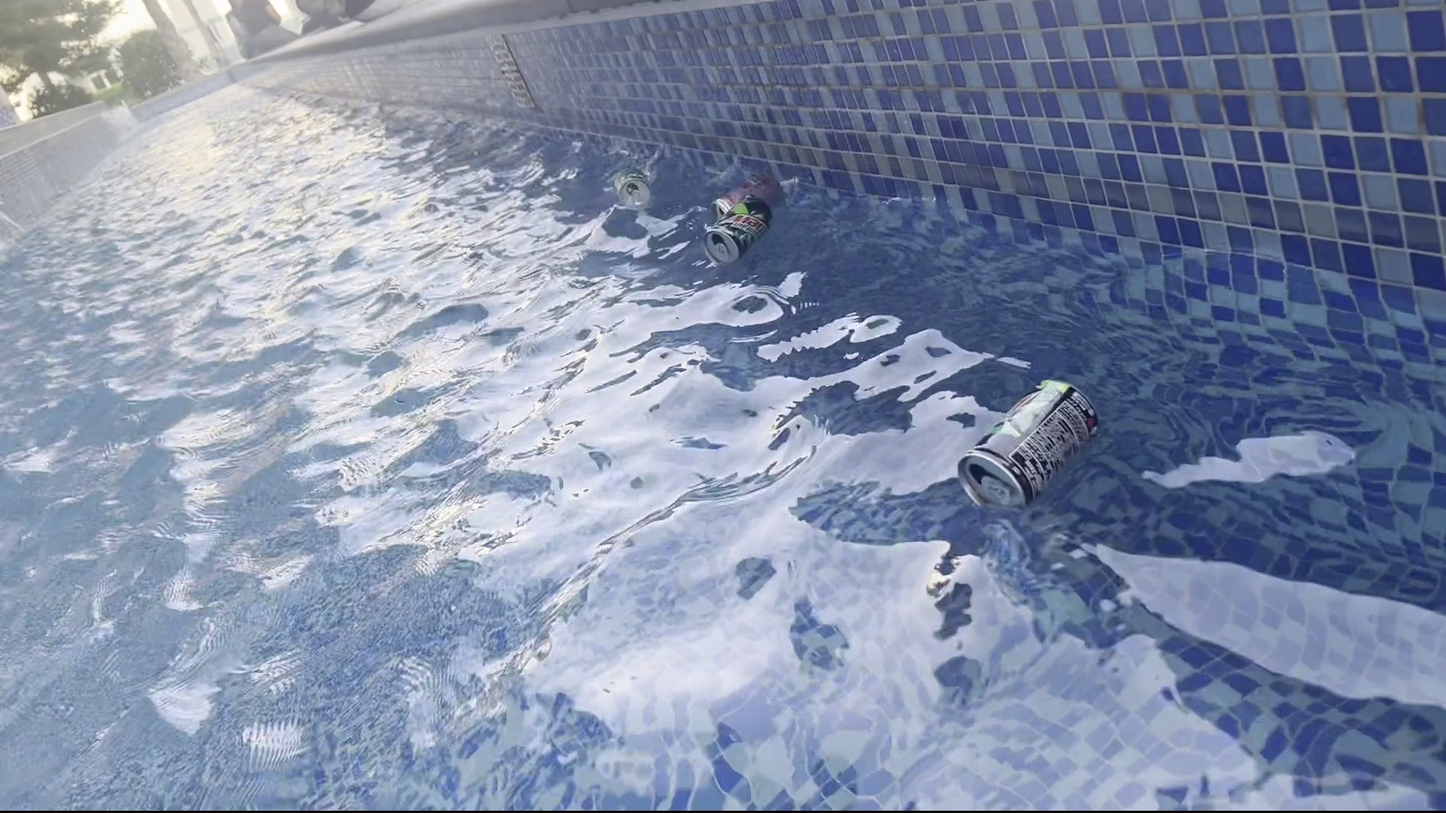debris: (950, 353, 1108, 522), (701, 180, 781, 271), (709, 166, 781, 227), (605, 167, 656, 213)
